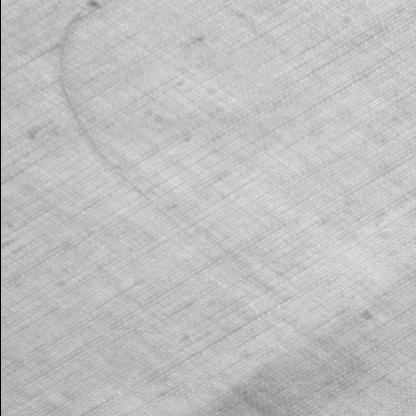objects: (56, 0, 232, 269)
